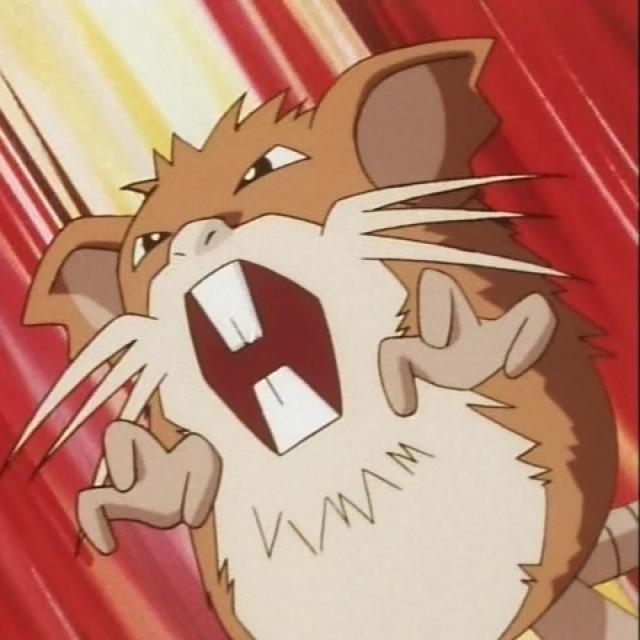Raticate: (81, 39, 541, 609)
